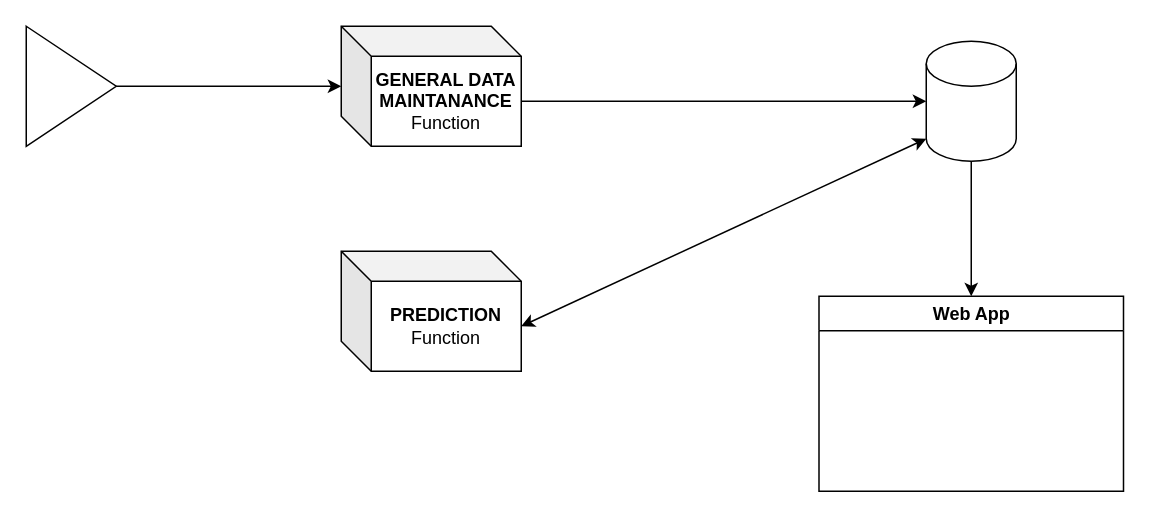
Some shapes in this 1151 by 518 pixel diagram are drawn without their labels. The shapes that lost their labels are listed below. From the top down, each one's centre as x and y in pixels, then its label:
At point (70, 85): "API".
At point (970, 100): "DB".
